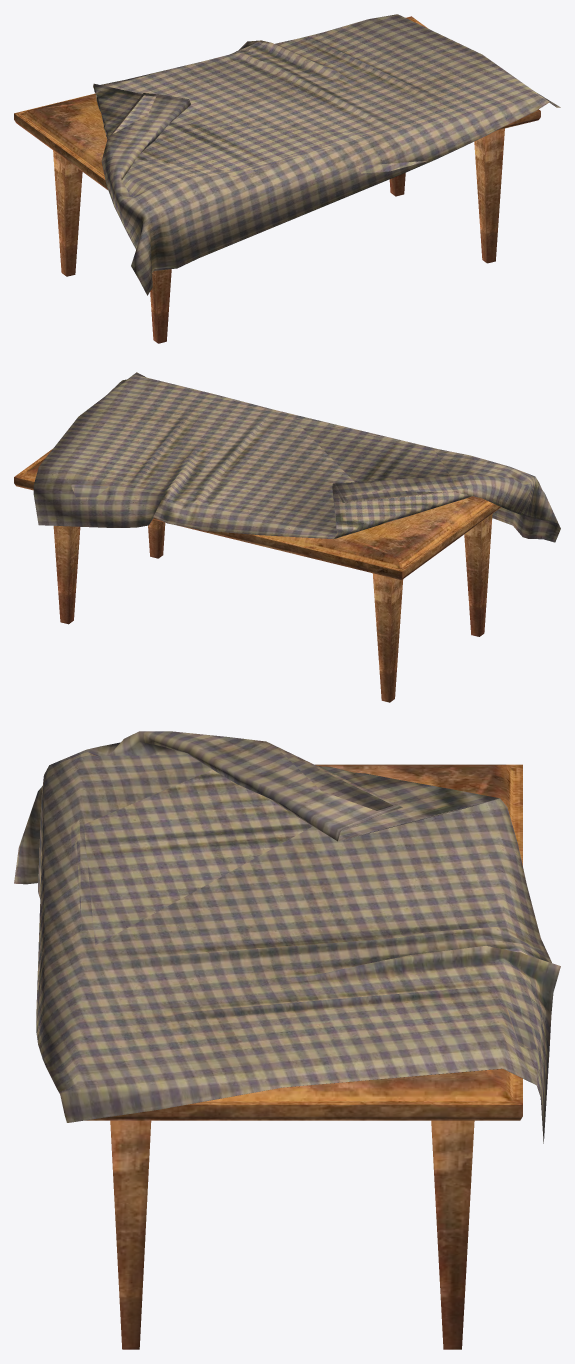
The model's file is dining_table.glb.
3 views of the same model, one above another, from view 1: azimuth 30°, elevation 25°; view 2: azimuth 150°, elevation 25°; view 3: azimuth 270°, elevation 25° (orthographic). The views are drawn at different scales.
Parts seen in each view (by area): view 1: dining_table; view 2: dining_table; view 3: dining_table.
Part boxes in pixels (x1,y1,x2,y2): dining_table: [14, 14, 560, 343]; dining_table: [14, 372, 560, 702]; dining_table: [14, 731, 560, 1349].
Bounding box in the file's own units: 2.26 × 0.8769 × 1.39.
1 material, 1 textured.
